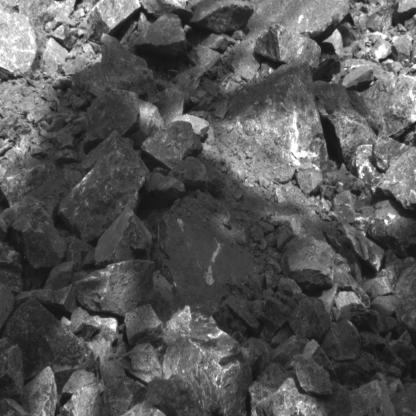stone: (230, 59, 332, 172), (57, 130, 152, 243), (1, 296, 96, 393), (161, 336, 244, 416), (313, 81, 377, 168), (72, 259, 156, 317), (249, 0, 355, 40), (9, 202, 67, 269), (83, 89, 141, 155), (255, 377, 351, 416), (94, 206, 152, 268), (146, 368, 220, 416), (363, 75, 416, 137), (72, 58, 153, 97), (141, 120, 204, 170), (254, 23, 321, 67), (281, 235, 334, 290), (332, 219, 385, 273), (0, 9, 37, 83), (376, 146, 416, 212), (365, 207, 416, 258), (134, 13, 189, 60), (100, 362, 146, 416), (0, 164, 56, 206), (249, 362, 290, 416), (288, 297, 336, 343), (86, 0, 141, 40), (189, 0, 255, 32), (114, 343, 163, 383), (335, 303, 397, 333), (130, 98, 165, 150), (21, 367, 58, 416), (290, 353, 332, 396), (348, 380, 397, 416), (371, 129, 412, 172), (101, 33, 149, 69), (15, 285, 76, 313), (355, 144, 385, 199), (124, 304, 163, 345), (304, 340, 340, 384), (260, 298, 294, 344), (321, 319, 361, 358), (146, 173, 186, 209), (168, 156, 208, 191), (171, 66, 206, 106), (383, 330, 416, 372), (240, 337, 271, 380), (271, 335, 309, 370), (226, 295, 260, 333), (391, 298, 416, 346), (60, 388, 101, 416), (162, 306, 191, 345), (41, 39, 68, 80), (62, 370, 104, 396), (154, 89, 184, 125), (70, 307, 100, 341), (174, 113, 209, 140), (45, 261, 78, 289), (122, 399, 174, 416), (361, 276, 395, 300), (394, 263, 416, 299), (332, 190, 355, 222), (0, 241, 22, 273), (196, 44, 220, 72), (296, 173, 323, 195), (335, 291, 366, 310), (370, 295, 398, 316), (0, 268, 23, 292), (401, 310, 416, 331)
